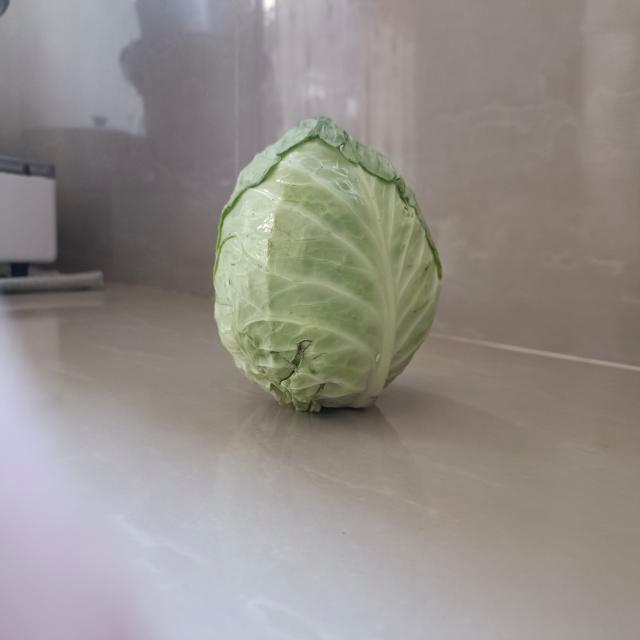cabbage: (208, 111, 447, 418)
